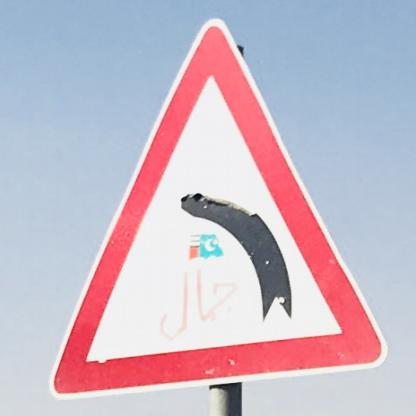Left bend: (49, 15, 390, 396)
